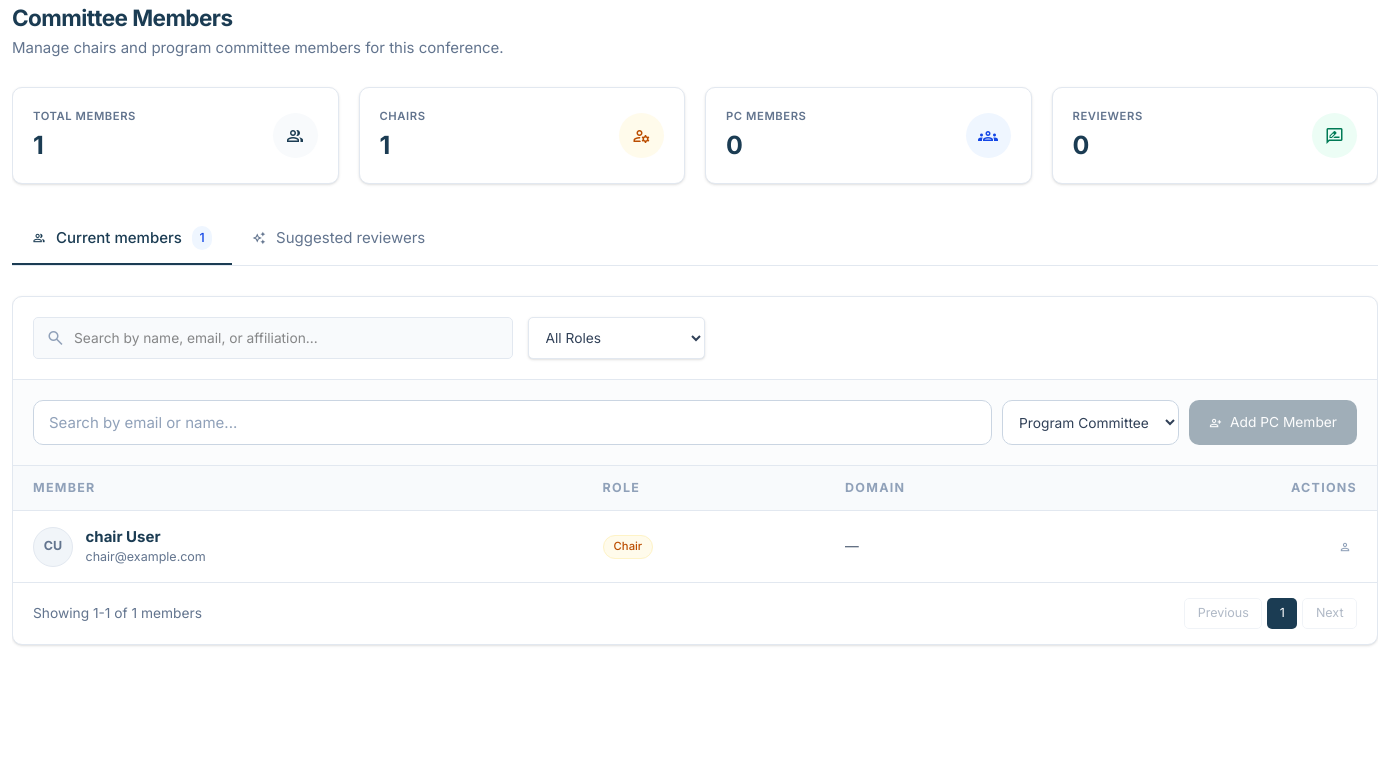
it: ConferenceCommittee — Add Member search dropdown match evidence › renders matched-field chips green and unmatched chips grey
The image size is (1378, 768).
Step 1. Select "Reviewer" in the 2nd dropdown → (1090, 423), box [1002,400,1178,445]
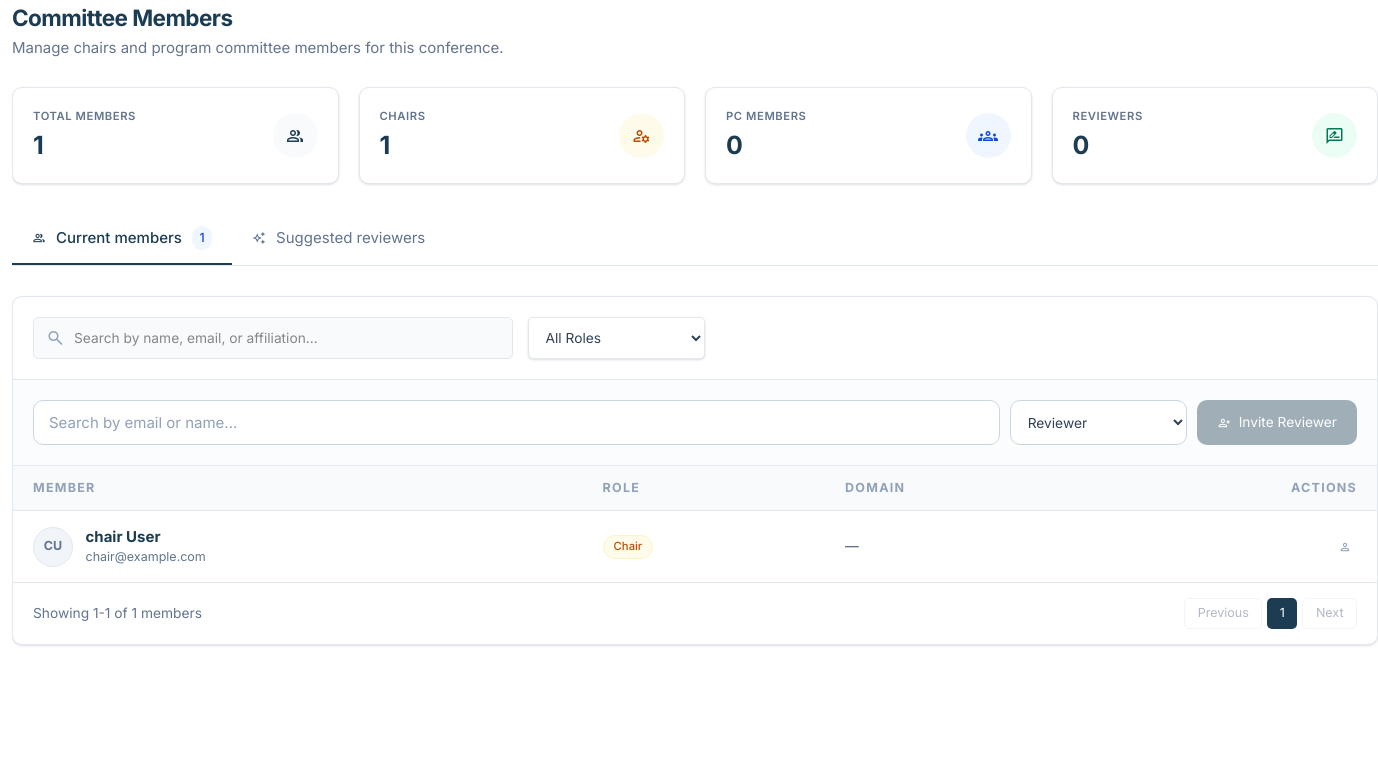
Step 2. Type "alice" into the field with placeholder "Search by email or name..." → (517, 423), box [33,400,1000,445]
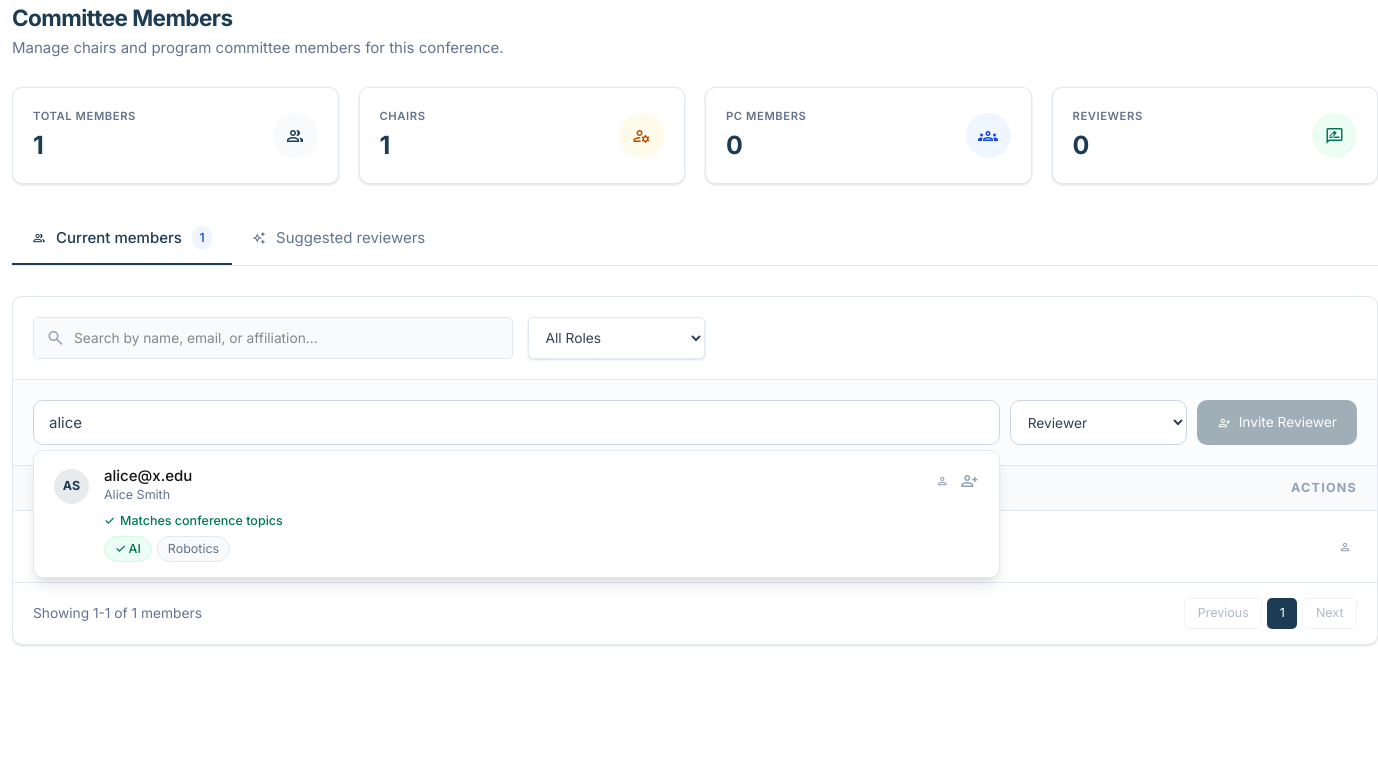
Now the text "alice@x.edu" is shown, box [104,466,192,485]
